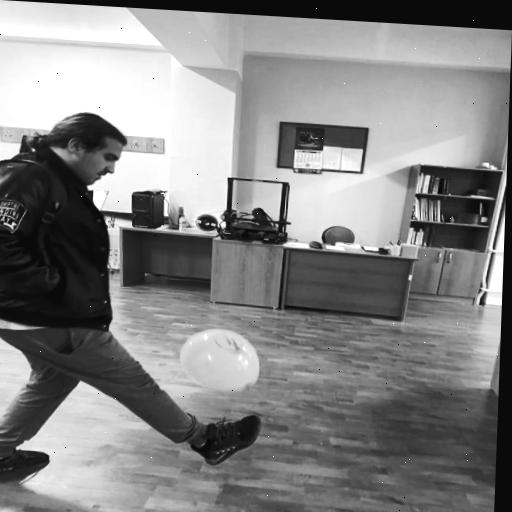balloon: (178, 328, 259, 393)
